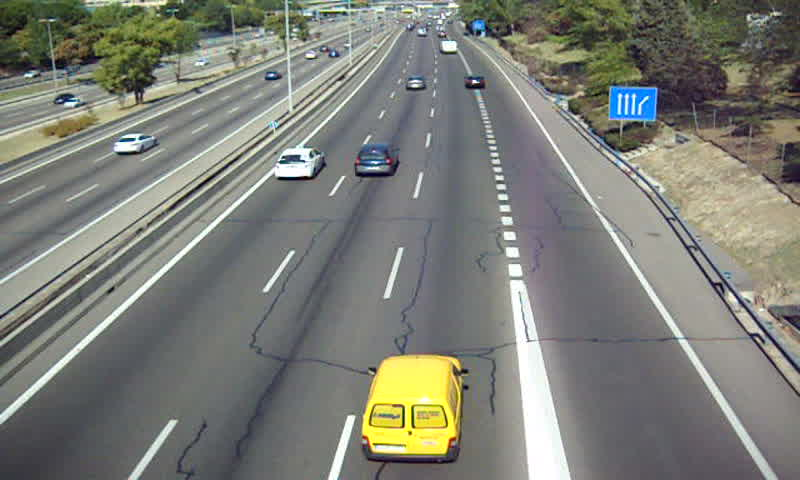car: (275, 148, 323, 178), (354, 145, 398, 176), (464, 75, 486, 89), (405, 76, 426, 89)
van: (362, 355, 461, 463)
